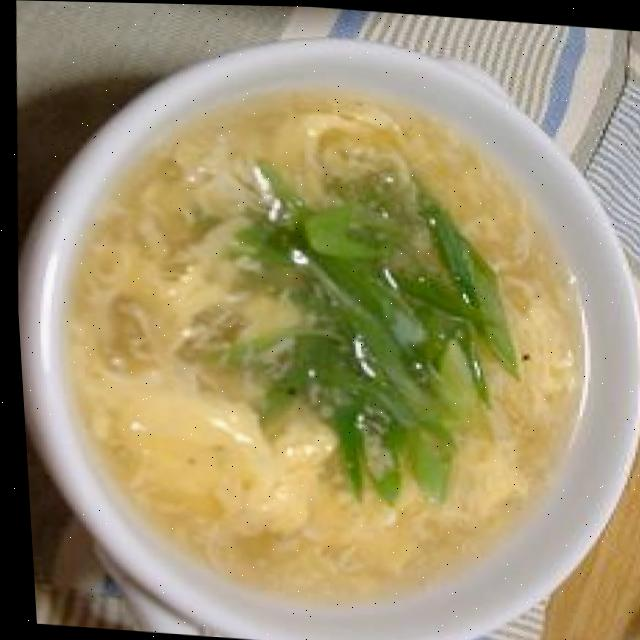汤锅炖物: (16, 22, 640, 640)
